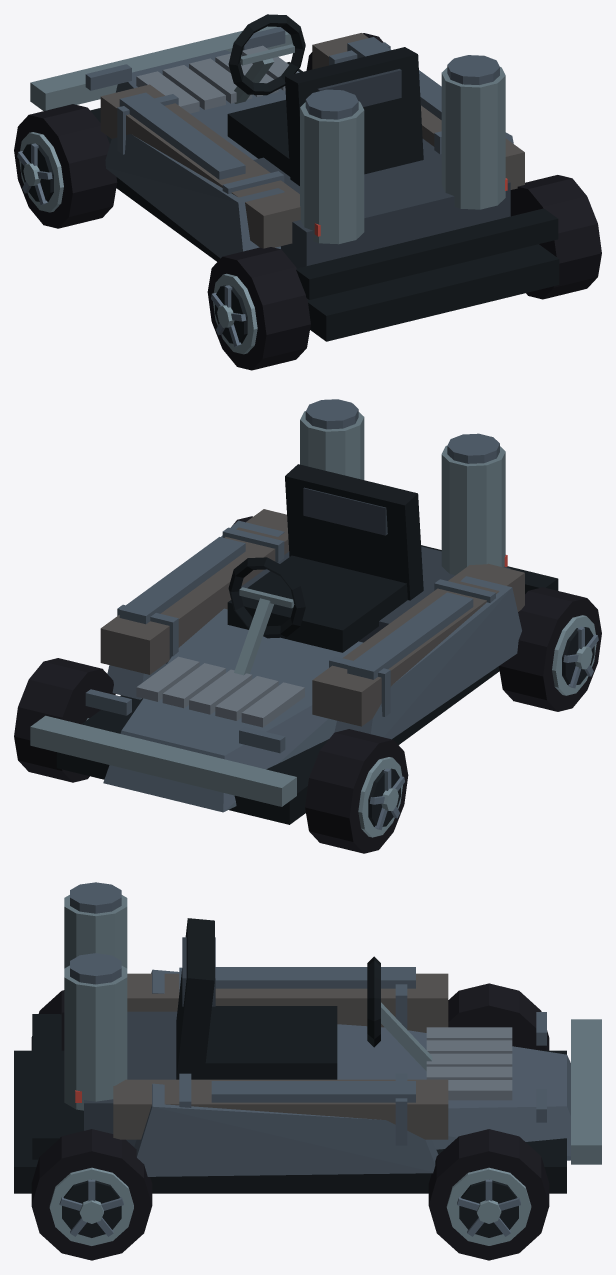
Rendered from kart.glb.
The picture shows the model from 3 angles, top to bottom: view 1: azimuth 30°, elevation 25°; view 2: azimuth 150°, elevation 25°; view 3: azimuth 270°, elevation 25°; orthographic projection. The views are drawn at different scales.
Parts seen in each view (by area): view 1: chassis, wheel-rear-left, wheel-front-left, wheel-rear-right; view 2: chassis, wheel-front-left, wheel-rear-left, wheel-front-right; view 3: chassis, wheel-front-right, wheel-rear-right, wheel-front-left, wheel-rear-left.
Part boxes in pixels (x1=…): chassis: x1=30, y1=14, x2=559, y2=341; wheel-rear-left: x1=207, y1=247, x2=310, y2=370; wheel-front-left: x1=14, y1=104, x2=117, y2=228; wheel-rear-right: x1=510, y1=175, x2=601, y2=299; chassis: x1=30, y1=399, x2=558, y2=824; wheel-front-left: x1=305, y1=729, x2=408, y2=853; wheel-rear-left: x1=499, y1=587, x2=601, y2=711; wheel-front-right: x1=14, y1=658, x2=115, y2=782; chassis: x1=14, y1=882, x2=601, y2=1193; wheel-front-right: x1=428, y1=1129, x2=549, y2=1260; wheel-rear-right: x1=31, y1=1129, x2=152, y2=1260; wheel-front-left: x1=448, y1=983, x2=549, y2=1050; wheel-rear-left: x1=31, y1=990, x2=64, y2=1050.
Bounding box in the file's own units: 2.21 × 1.4 × 3.02.
